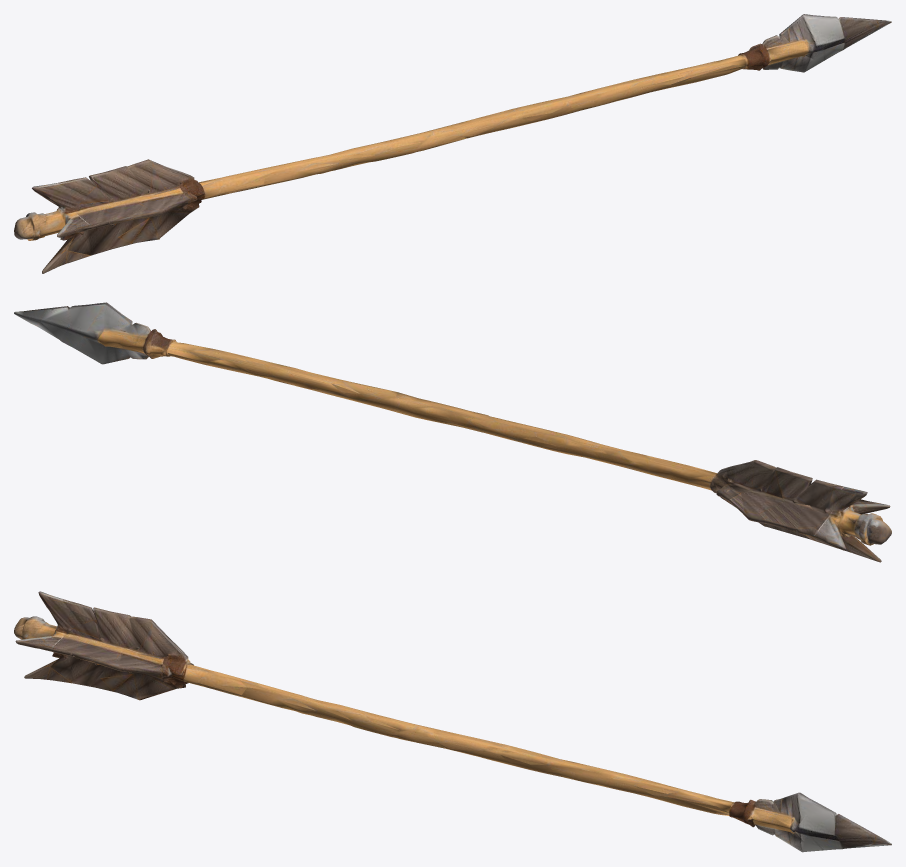
The model's file is steel_arrow.glb.
3 views of the same model, one above another, from view 1: azimuth 30°, elevation 25°; view 2: azimuth 150°, elevation 25°; view 3: azimuth 330°, elevation 25° (orthographic).
Visible parts, largest first — view 1: steel_arrow; view 2: steel_arrow; view 3: steel_arrow.
Part boxes in pixels (x1,y1,x2,y2): steel_arrow: [14, 14, 891, 273]; steel_arrow: [14, 302, 891, 562]; steel_arrow: [14, 591, 891, 852].
Size of the model in its own units: 0.8 by 0.0699 by 0.0645.
1 material, 1 textured.
